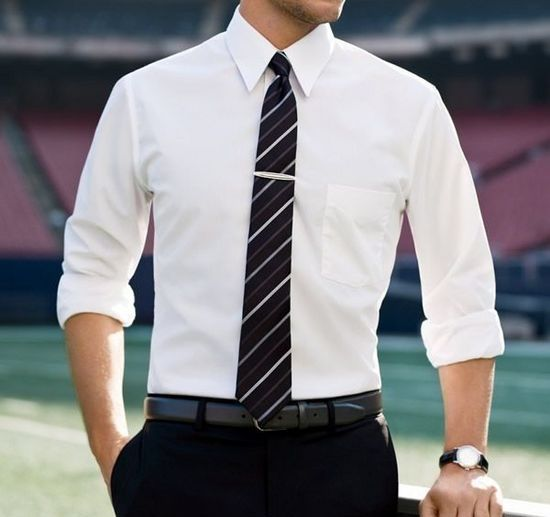tie: (230, 46, 322, 437)
